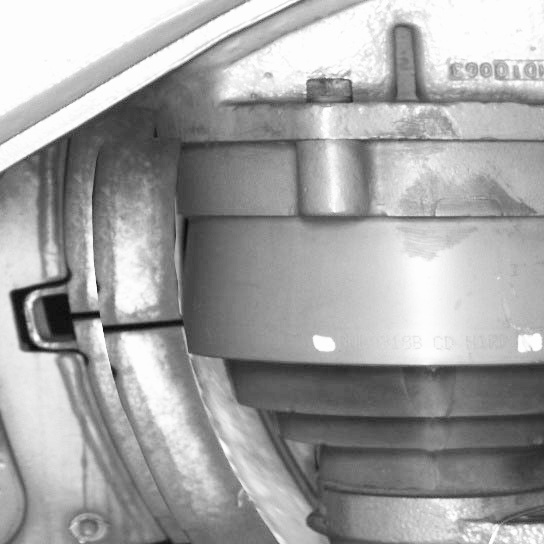ClosedKnifeSwitch: (70, 142, 292, 541)
